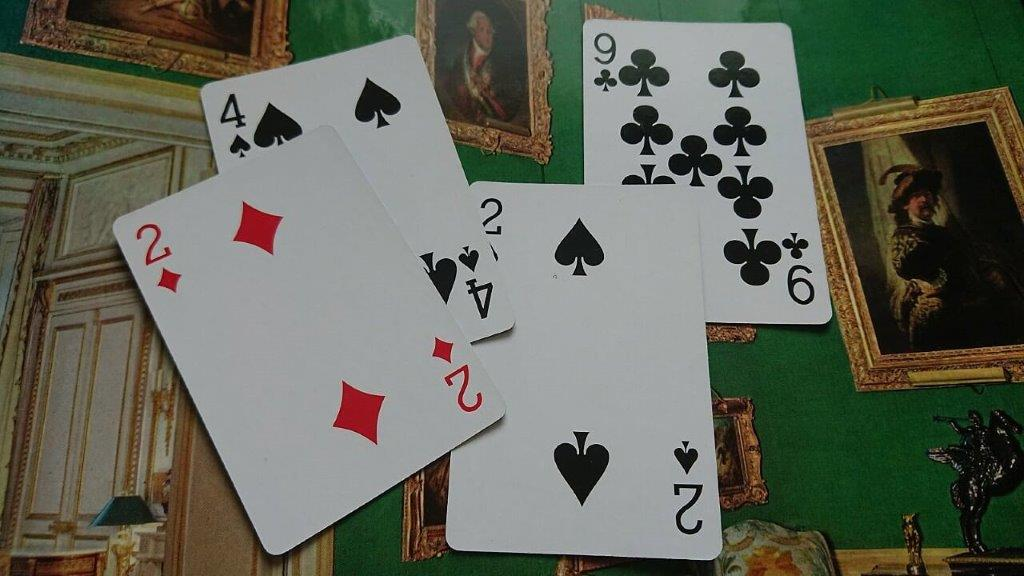2D: (129, 220, 185, 297)
4S: (215, 90, 253, 162)
9C: (587, 28, 620, 96)
